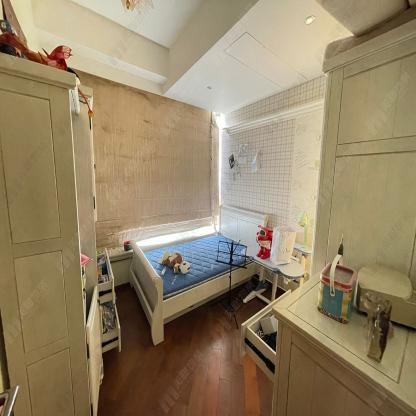Bed: (129, 204, 269, 345)
